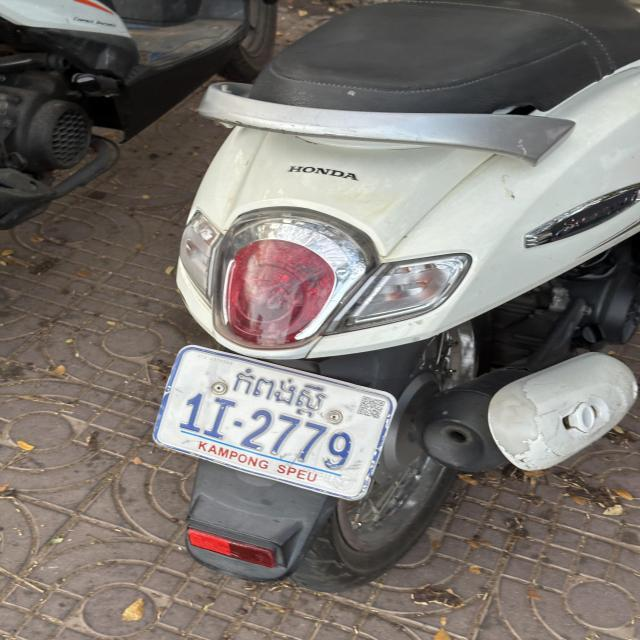Kampong_Speu: (232, 366, 329, 419)
